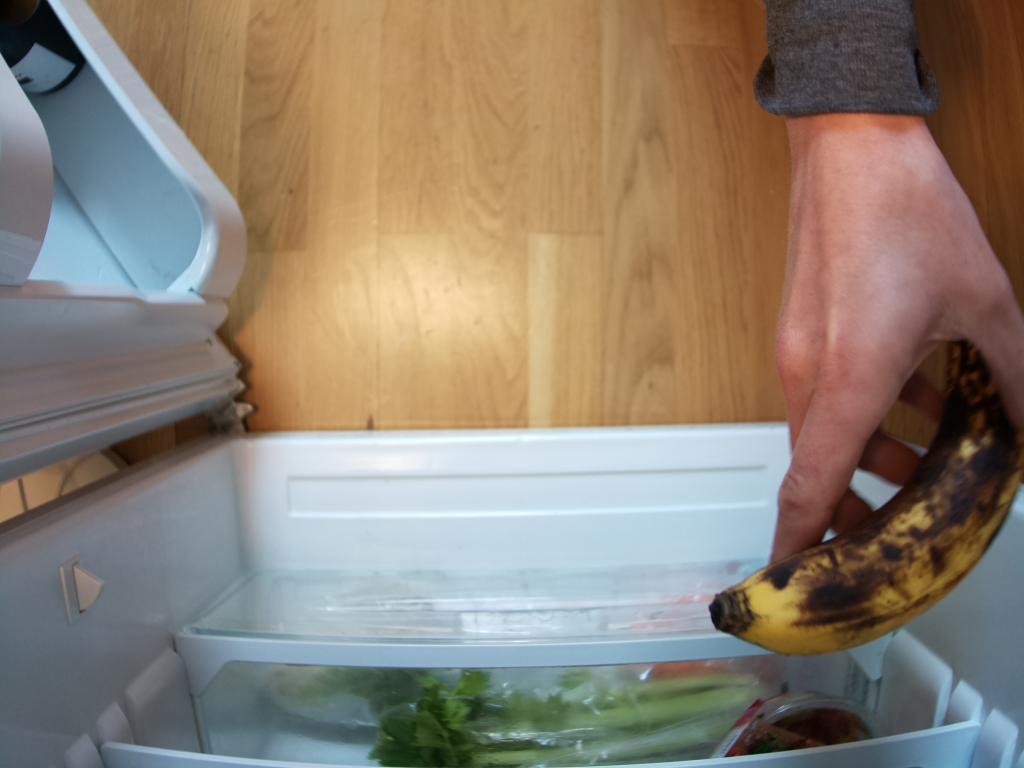banana-overripe: (708, 338, 1024, 659)
